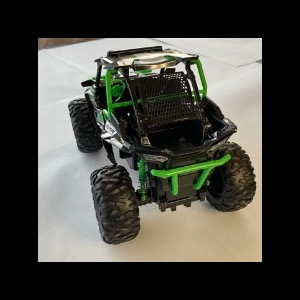polaris: (67, 46, 256, 248)
